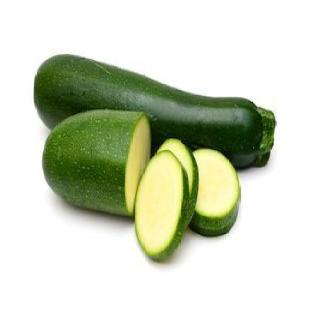Zucchini: (34, 56, 275, 166), (43, 111, 151, 215), (135, 150, 191, 260), (190, 149, 239, 236), (157, 138, 198, 223)
